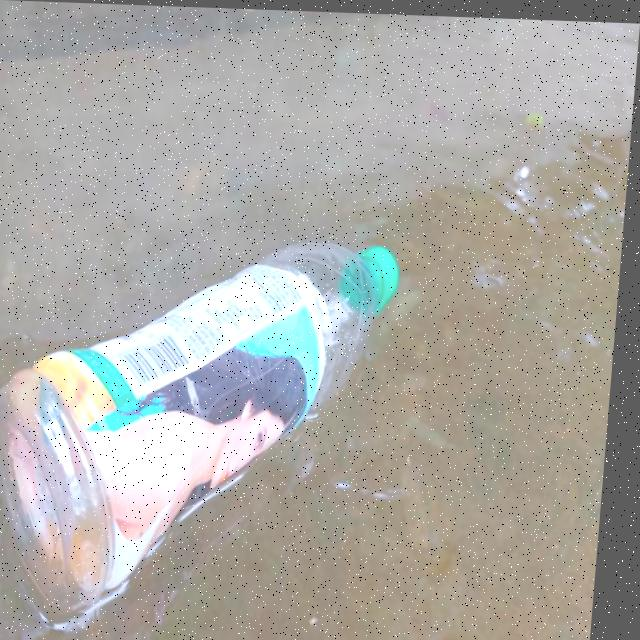waterbottle: (0, 186, 452, 633)
